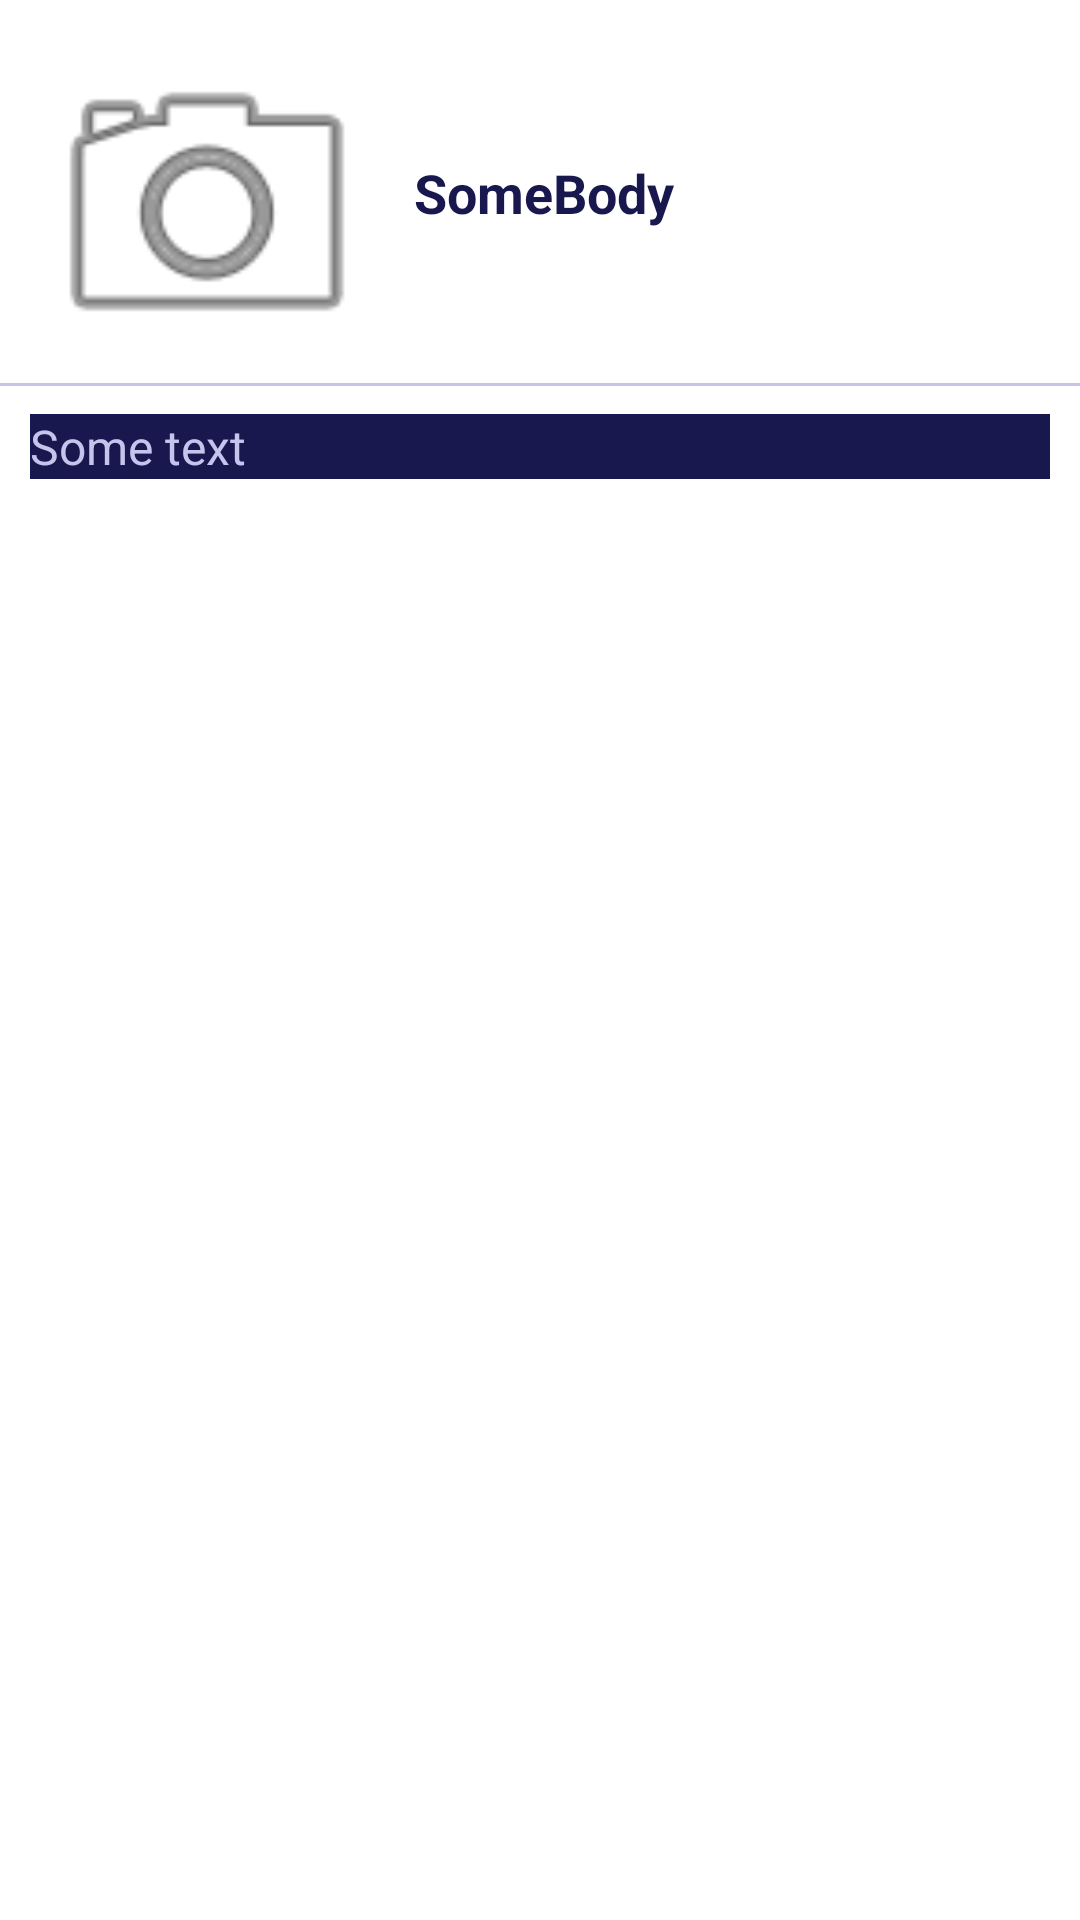

Where icons sit on this 1080x1920 app screen, as (x1, y1, x2, y2):
camera: (70, 92, 344, 311)
